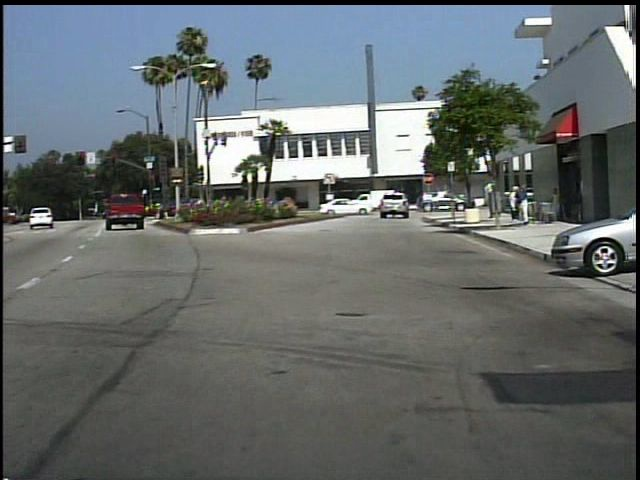person: (514, 182, 531, 225), (370, 190, 391, 218), (547, 184, 560, 223), (504, 183, 516, 221)
